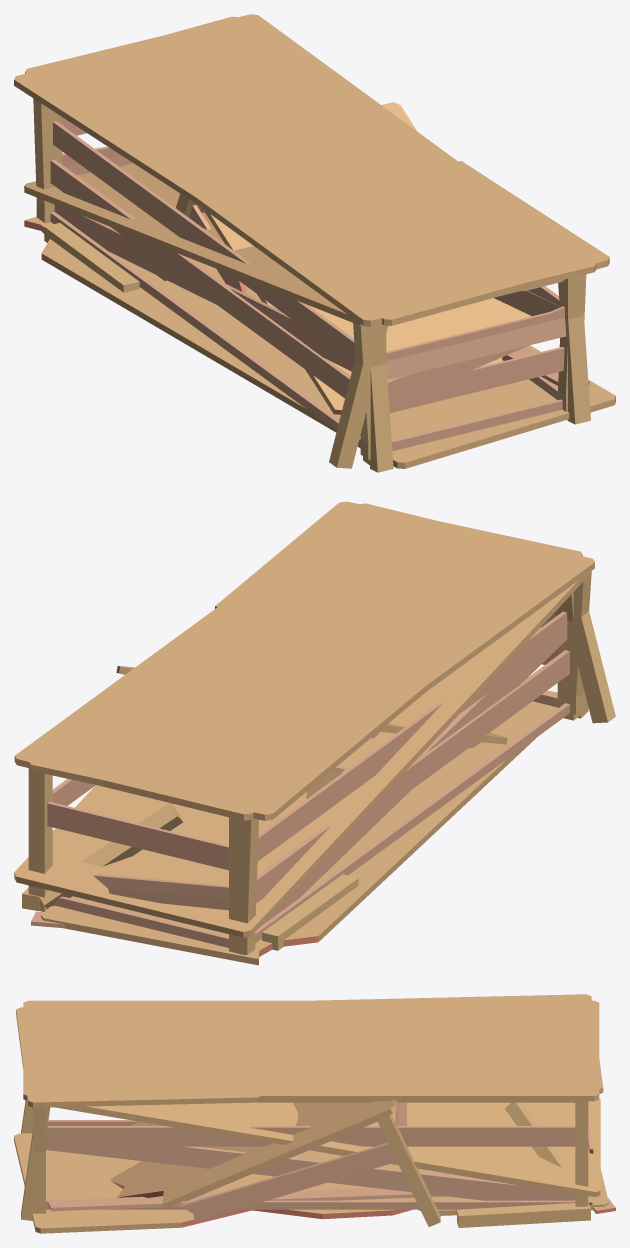
Rendered from TableSmall1.fbx.
3 renders of one model, top to bottom at view 1: azimuth 30°, elevation 25°; view 2: azimuth 150°, elevation 25°; view 3: azimuth 270°, elevation 25°, orthographic. The views are drawn at different scales.
Parts seen in each view (by area): view 1: TableSmallWood1.4, TableSmallWood1.5, TableSmallWood1.1, TableSmallWood1.3, TableSmallWood1.2; view 2: TableSmallWood1.4, TableSmallWood1.1, TableSmallWood1.5, TableSmallWood1.3, TableSmallWood1.2; view 3: TableSmallWood1.4, TableSmallWood1.3, TableSmallWood1.5, TableSmallWood1.1, TableSmallWood1.2.
Boxes of the visible parts, left/top/right/bottom form: TableSmallWood1.4: left=14, top=16, right=609, bottom=468; TableSmallWood1.5: left=24, top=98, right=615, bottom=468; TableSmallWood1.1: left=25, top=14, right=596, bottom=465; TableSmallWood1.3: left=24, top=163, right=590, bottom=472; TableSmallWood1.2: left=157, top=102, right=531, bottom=414; TableSmallWood1.4: left=28, top=501, right=615, bottom=911; TableSmallWood1.1: left=14, top=503, right=594, bottom=954; TableSmallWood1.5: left=39, top=565, right=591, bottom=965; TableSmallWood1.3: left=14, top=571, right=591, bottom=950; TableSmallWood1.2: left=116, top=666, right=507, bottom=798; TableSmallWood1.4: left=16, top=994, right=603, bottom=1213; TableSmallWood1.3: left=21, top=1098, right=615, bottom=1227; TableSmallWood1.5: left=14, top=1102, right=608, bottom=1233; TableSmallWood1.1: left=23, top=1000, right=599, bottom=1102; TableSmallWood1.2: left=110, top=1099, right=440, bottom=1226.
Bounding box in the file's own units: 142 × 73.63 × 311.
